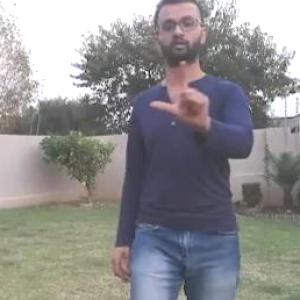land_hand: (150, 56, 217, 128)
